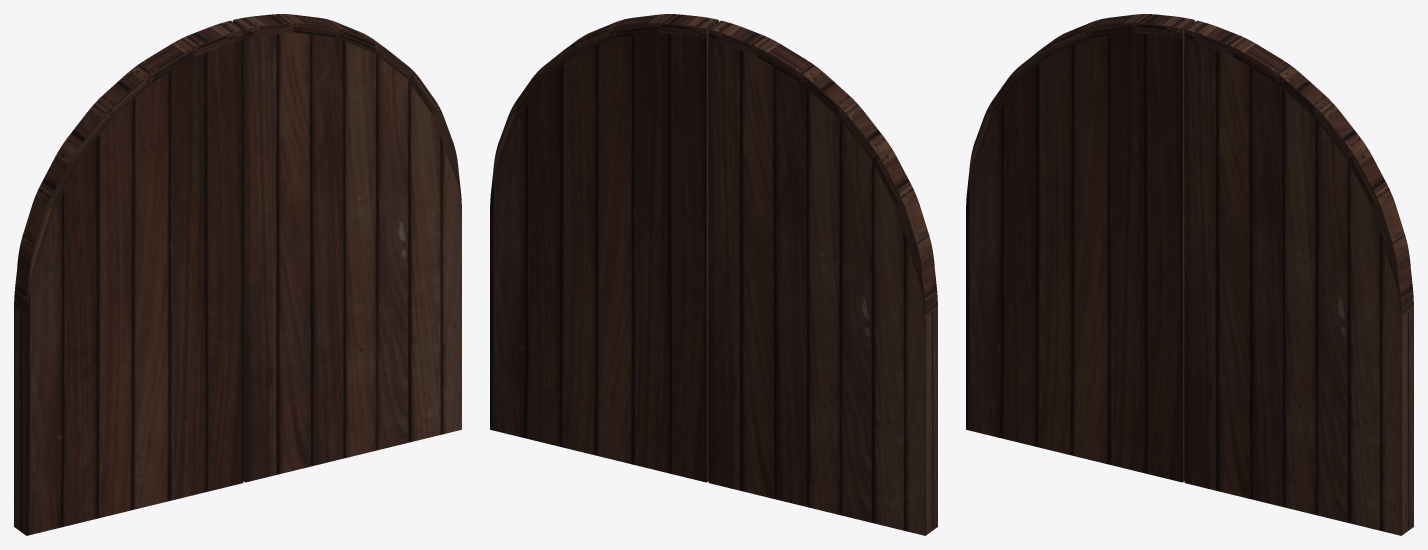
File: door.fbx
3 renders of one model, left to right at view 1: azimuth 30°, elevation 25°; view 2: azimuth 150°, elevation 25°; view 3: azimuth 330°, elevation 25°, orthographic.
Visible parts, largest first — view 1: RightDoor, LeftDoor; view 2: RightDoor, LeftDoor; view 3: LeftDoor, RightDoor.
Boxes of the visible parts, x1,y1,x2,y2 form: RightDoor: (14, 20, 243, 535); LeftDoor: (233, 14, 461, 482); RightDoor: (708, 20, 937, 535); LeftDoor: (490, 14, 718, 482); LeftDoor: (1184, 20, 1413, 535); RightDoor: (966, 14, 1194, 482).
Size of the model in its own units: 201 by 200 by 10.
1 material, 1 textured.
